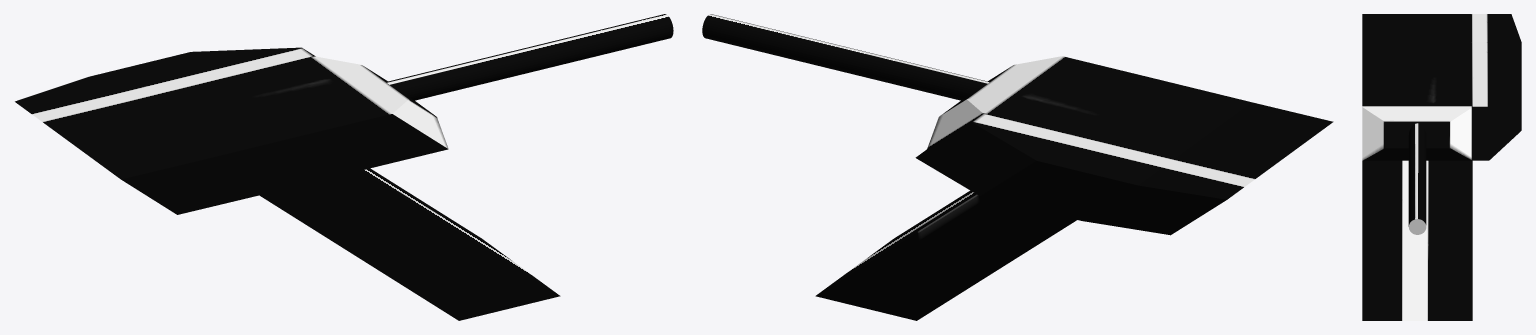
Rendered from basicCannon.fbx.
3 views of the same model, side by side, from view 1: azimuth 30°, elevation 25°; view 2: azimuth 150°, elevation 25°; view 3: azimuth 270°, elevation 25° (orthographic). The views are drawn at different scales.
Parts seen in each view (by area): view 1: Mantlet, Barrel; view 2: Mantlet, Barrel; view 3: Mantlet, Barrel.
Part boxes in pixels (x1,y1,x2,y2): Mantlet: (15, 47, 560, 320); Barrel: (386, 14, 673, 100); Mantlet: (815, 56, 1333, 320); Barrel: (702, 14, 989, 100); Mantlet: (1362, 14, 1521, 320); Barrel: (1408, 123, 1426, 234).
Size of the model in its own units: 54.19 by 19.8 by 18.23.
2 materials, 2 textured.
